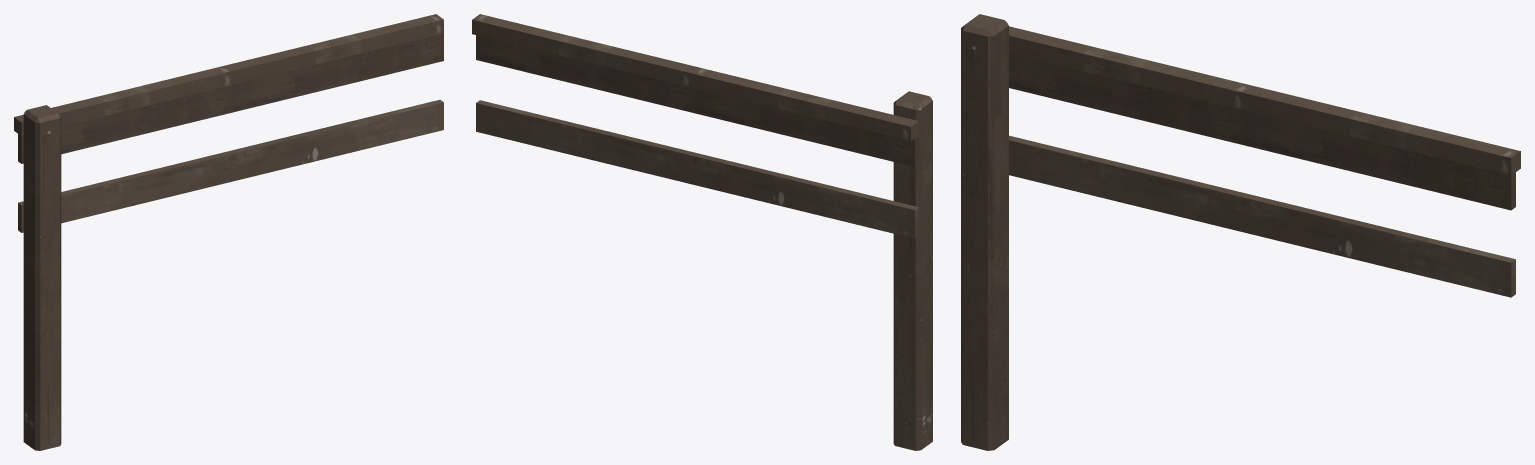
3 renders of one model, left to right at view 1: azimuth 30°, elevation 25°; view 2: azimuth 150°, elevation 25°; view 3: azimuth 330°, elevation 25°, orthographic. The views are drawn at different scales.
Visible parts, largest first — view 1: body0_model0_lod0_mesh0; view 2: body0_model0_lod0_mesh0; view 3: body0_model0_lod0_mesh0.
Part boxes in pixels (x1,y1,x2,y2): body0_model0_lod0_mesh0: (14,14,443,450); body0_model0_lod0_mesh0: (472,14,932,450); body0_model0_lod0_mesh0: (961,14,1520,450).
Bounding box in the file's own units: 64 × 48 × 6.
1 material, 1 textured.
